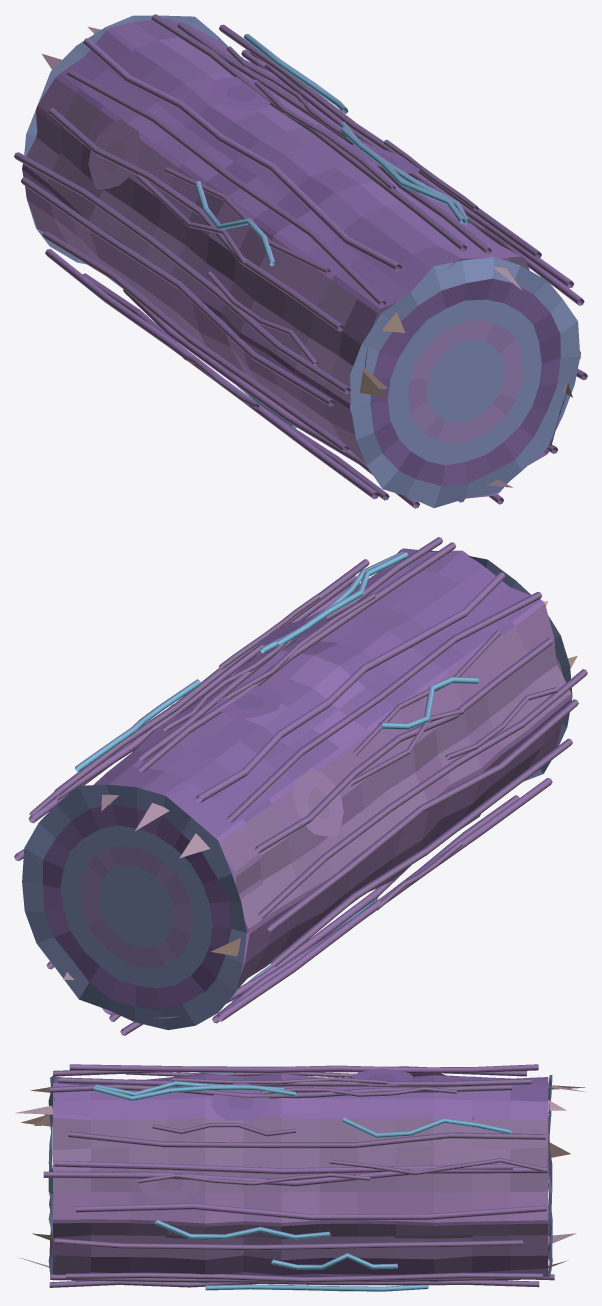
Rendered from MysticLog.glb.
The picture shows the model from 3 angles, top to bottom: view 1: azimuth 30°, elevation 25°; view 2: azimuth 150°, elevation 25°; view 3: azimuth 270°, elevation 25°; orthographic projection. The views are drawn at different scales.
Visible parts, largest first — view 1: EXPORT_STRONG_Mystic_Log_Rough; view 2: EXPORT_STRONG_Mystic_Log_Rough; view 3: EXPORT_STRONG_Mystic_Log_Rough.
Boxes of the visible parts, bbox=[...] form: EXPORT_STRONG_Mystic_Log_Rough: bbox=[14, 14, 587, 508]; EXPORT_STRONG_Mystic_Log_Rough: bbox=[14, 537, 587, 1035]; EXPORT_STRONG_Mystic_Log_Rough: bbox=[16, 1064, 586, 1291].
Size of the model in its own units: 0.2528 by 0.2507 by 0.6375.
